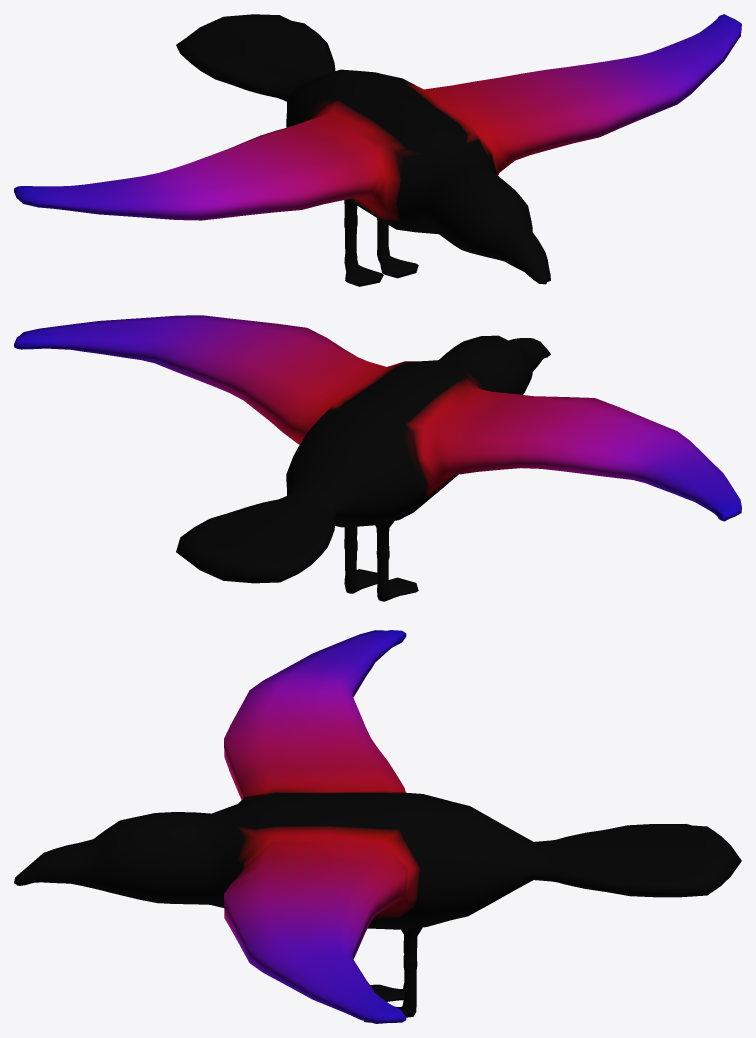
File: SeagullVColorInterpolated.fbx
3 views of the same model, one above another, from view 1: azimuth 30°, elevation 25°; view 2: azimuth 150°, elevation 25°; view 3: azimuth 270°, elevation 25° (orthographic). The views are drawn at different scales.
Parts seen in each view (by area): view 1: Seagull_Msh; view 2: Seagull_Msh; view 3: Seagull_Msh.
Part boxes in pixels (box(x1,y1,x2,y2)): Seagull_Msh: box(14, 14, 741, 286); Seagull_Msh: box(14, 315, 741, 601); Seagull_Msh: box(14, 630, 741, 1023).
Bounding box in the file's own units: 827 × 207 × 655.
